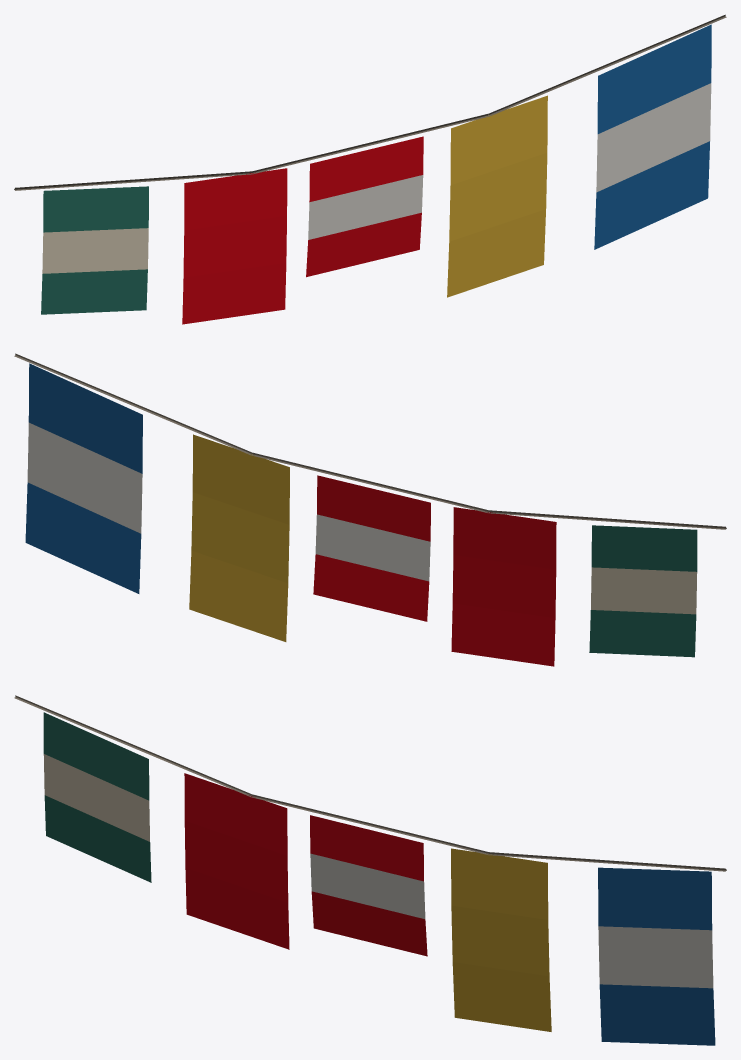
The model's file is laundry_line.glb.
The picture shows the model from 3 angles, top to bottom: view 1: azimuth 30°, elevation 25°; view 2: azimuth 150°, elevation 25°; view 3: azimuth 330°, elevation 25°; orthographic projection.
Visible parts, largest first — view 1: laundry_line; view 2: laundry_line; view 3: laundry_line.
Boxes of the visible parts, bbox=[...] form: laundry_line: bbox=[14, 14, 726, 324]; laundry_line: bbox=[14, 353, 726, 666]; laundry_line: bbox=[14, 695, 726, 1045].
Size of the model in its own units: 3.2 by 0.942 by 0.0364.
